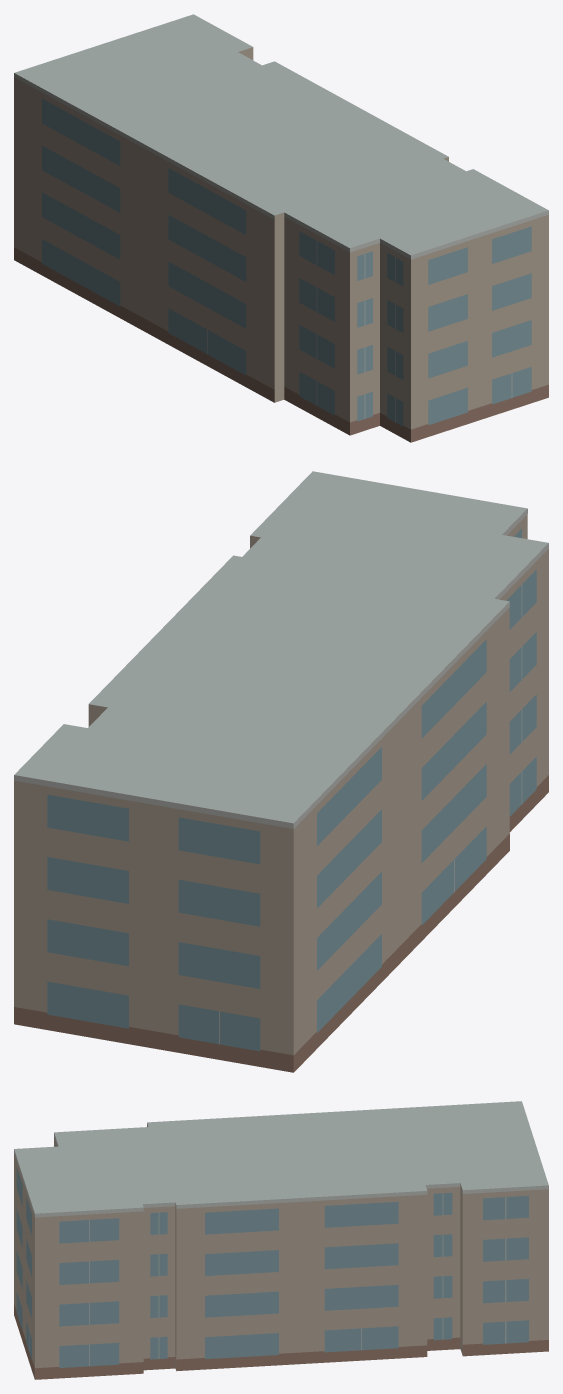
File: survey-upis-32972987.glb
The picture shows the model from 3 angles, top to bottom: view 1: azimuth 30°, elevation 25°; view 2: azimuth 150°, elevation 25°; view 3: azimuth 270°, elevation 25°; orthographic projection. The views are drawn at different scales.
Visible parts, largest first — view 1: survey-upis-32972987.tmp; view 2: survey-upis-32972987.tmp; view 3: survey-upis-32972987.tmp.
Boxes of the visible parts, x1=… form: survey-upis-32972987.tmp: x1=14, y1=14, x2=548, y2=442; survey-upis-32972987.tmp: x1=14, y1=471, x2=548, y2=1072; survey-upis-32972987.tmp: x1=14, y1=1101, x2=548, y2=1379.
Size of the model in its own units: 15.72 by 10.8 by 31.54.
